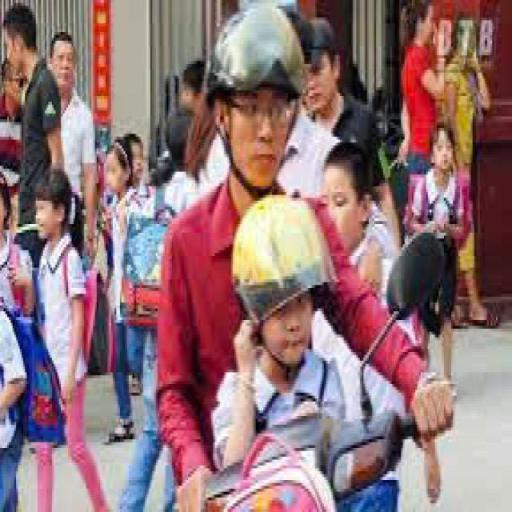with helmet: (234, 192, 336, 303), (202, 4, 308, 100)
